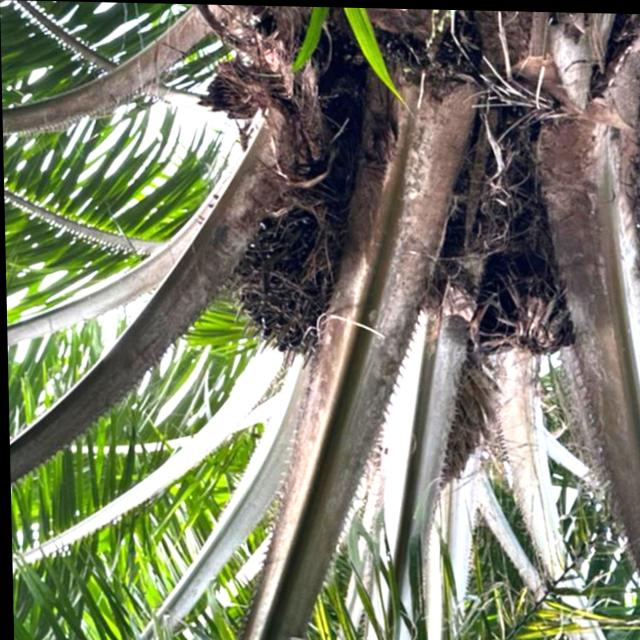unripe: (223, 175, 361, 371)
